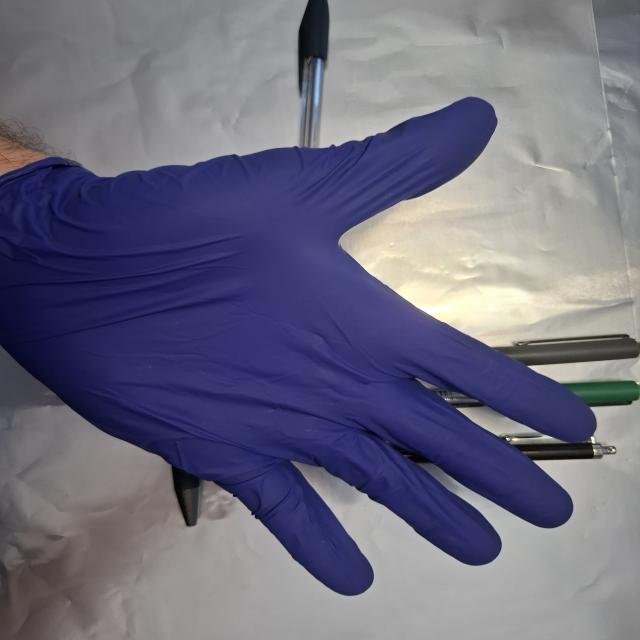glove_on: (2, 92, 602, 600)
